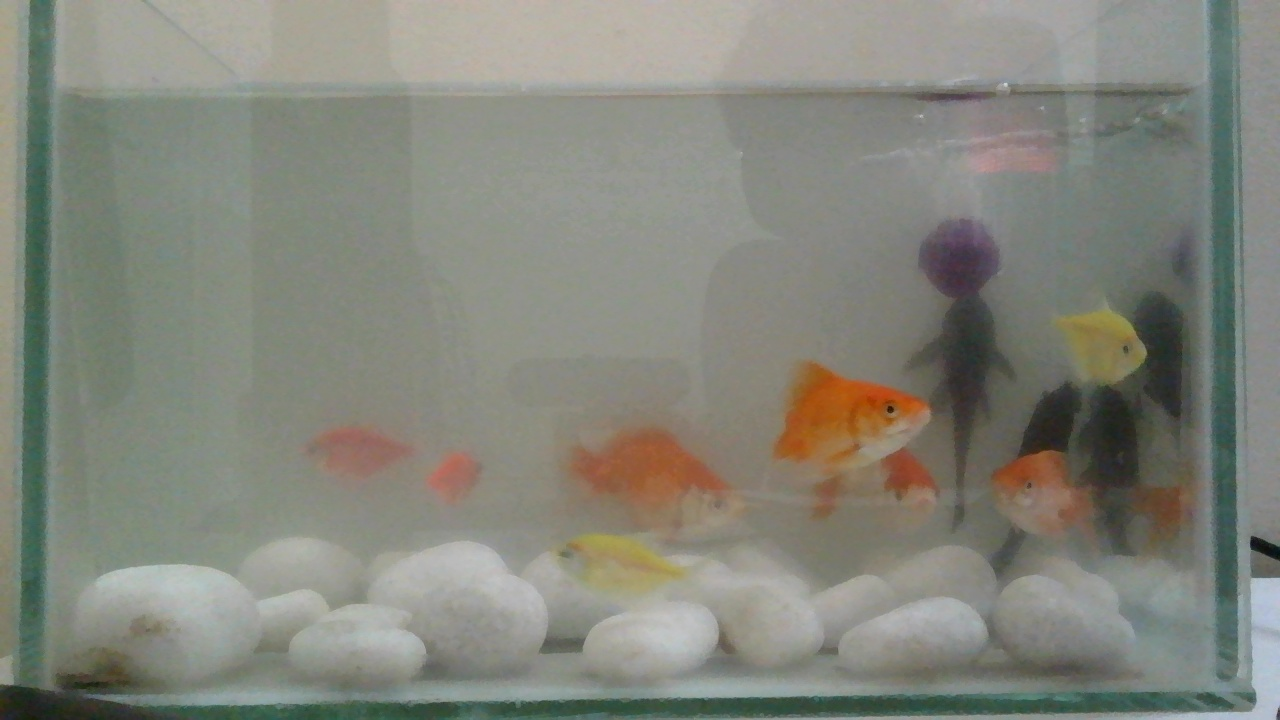fish: (772, 355, 934, 518), (1047, 295, 1148, 390), (304, 421, 416, 487), (431, 442, 482, 511)
